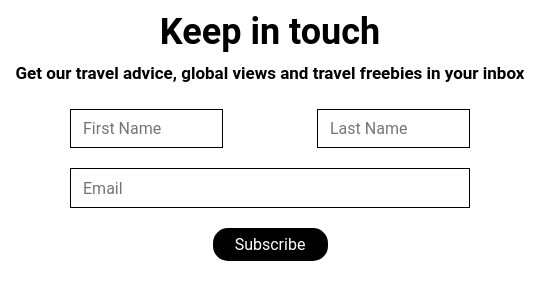
Scenario: Form testing › Email is required
Click the button "Subscribe" at (270, 244), box [212,228,328,261]
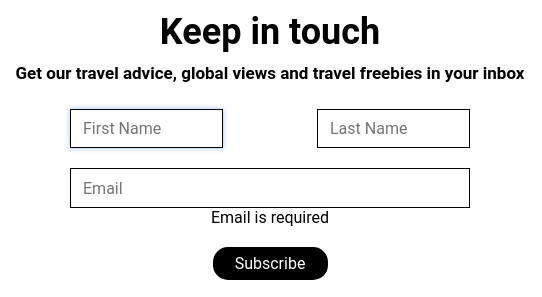
Now the text "Email is required" is shown, box [211,208,329,227]
